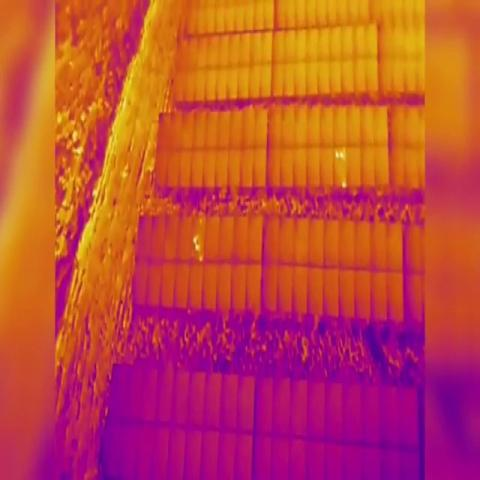fault: (334, 147, 340, 160), (341, 177, 347, 190), (340, 148, 346, 160), (192, 234, 198, 246), (199, 254, 204, 263), (195, 244, 199, 251)
